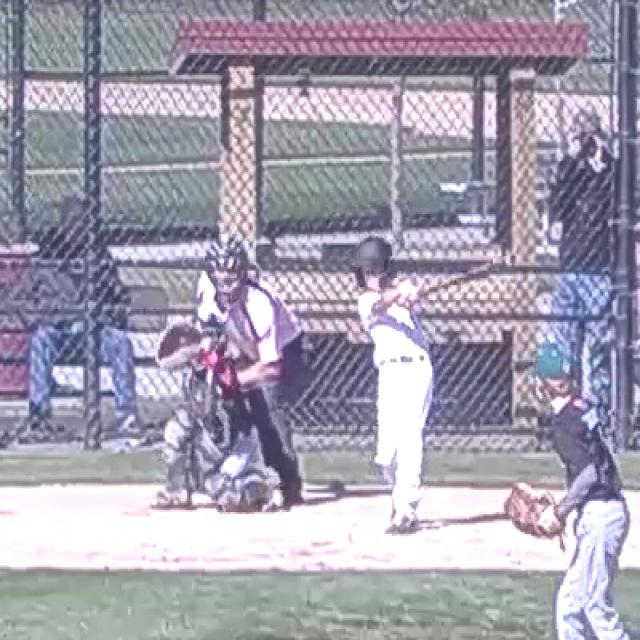baseball: (202, 338, 212, 350)
